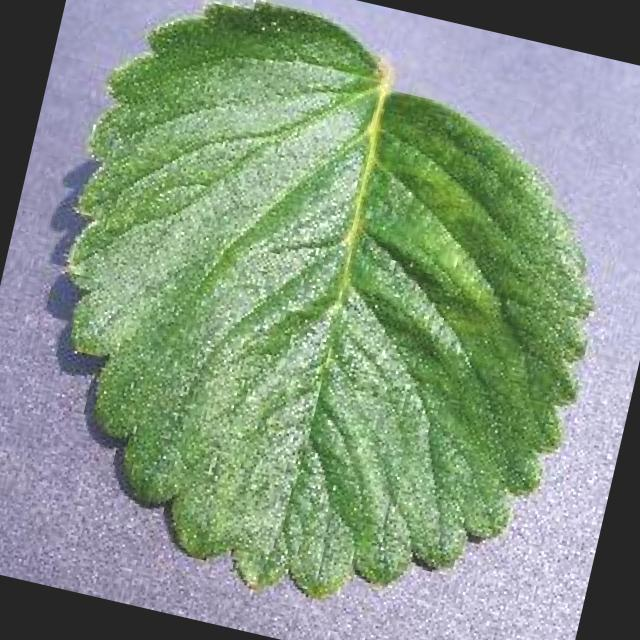healthy: (70, 4, 591, 597)
